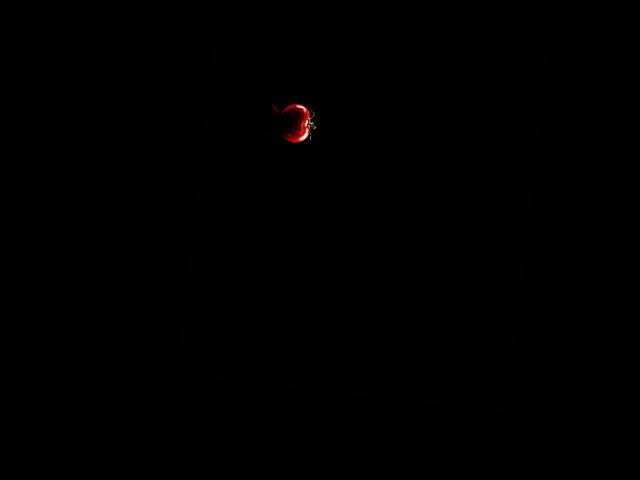tomato: (278, 102, 313, 144)
